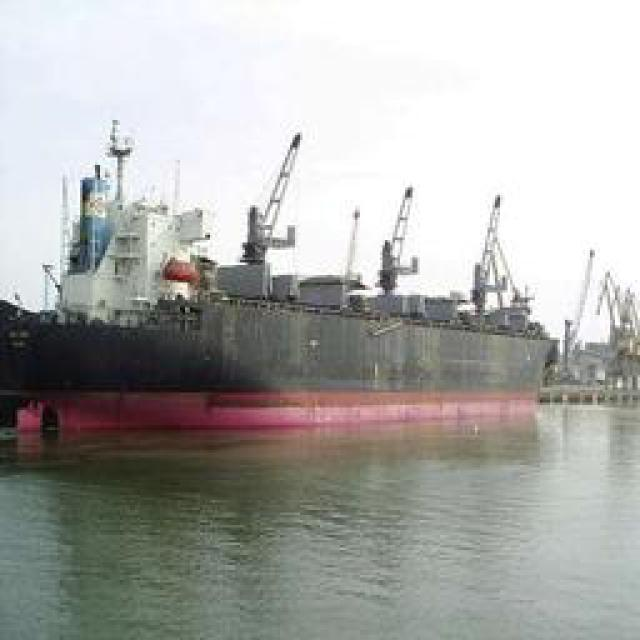Ship: (12, 122, 572, 410)
